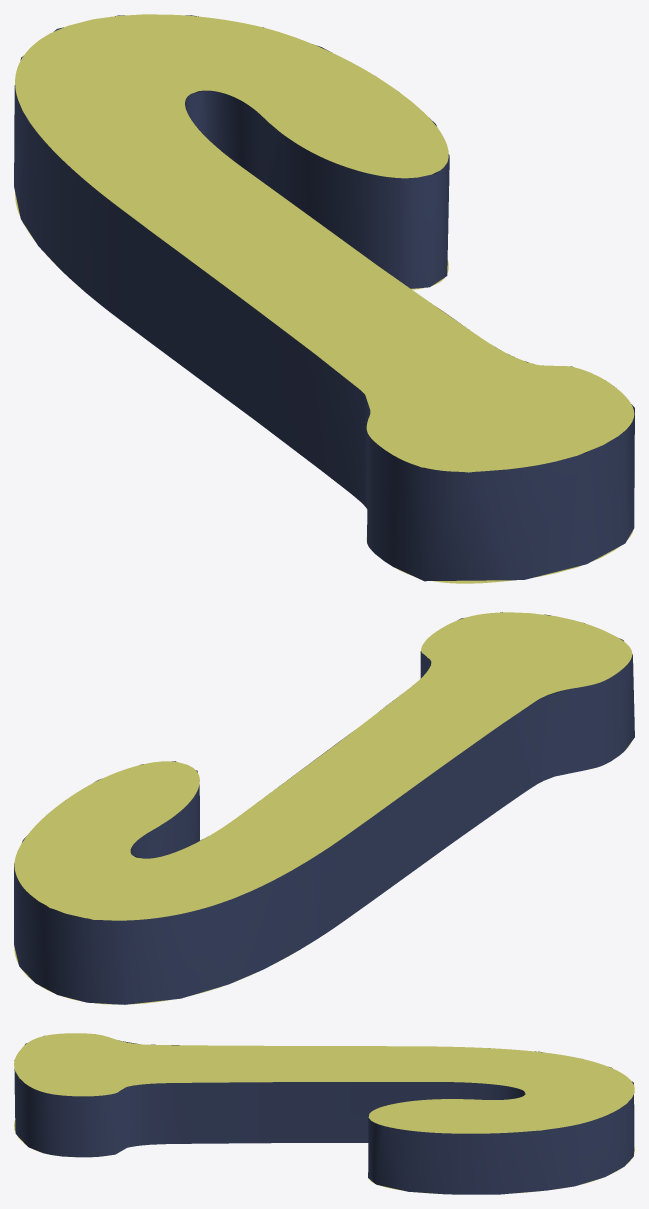
The model's file is j_boss.fbx.
3 views of the same model, one above another, from view 1: azimuth 30°, elevation 25°; view 2: azimuth 150°, elevation 25°; view 3: azimuth 270°, elevation 25° (orthographic). The views are drawn at different scales.
Parts seen in each view (by area): view 1: J; view 2: J; view 3: J.
Part boxes in pixels (x1,y1,x2,y2): J: [14, 14, 634, 583]; J: [14, 612, 634, 1004]; J: [14, 1033, 634, 1194].
Size of the model in its own units: 0.5652 by 0.1599 by 1.48.
